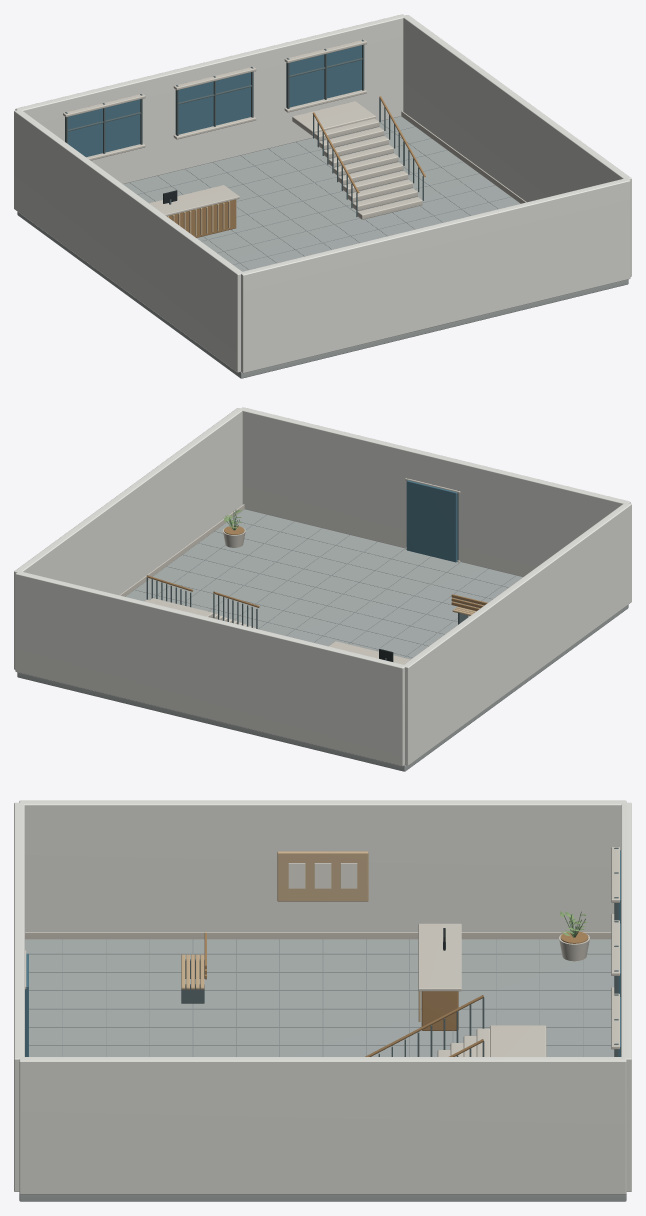
Rendered from reception.glb.
3 views of the same model, one above another, from view 1: azimuth 30°, elevation 25°; view 2: azimuth 150°, elevation 25°; view 3: azimuth 270°, elevation 25° (orthographic). The views are drawn at different scales.
Parts seen in each view (by area): view 1: white, paving, stone, glass, metal, grout, wood, oak; view 2: white, paving, glass, grout, stone, metal, wood; view 3: white, paving, stone, grout, oak, wood, metal, paper, glass.
Part boxes in pixels (x1,y1,x2,y2): white: [14, 14, 631, 373]; paving: [17, 116, 628, 378]; stone: [63, 39, 526, 219]; glass: [68, 45, 361, 157]; metal: [65, 39, 423, 216]; grout: [130, 122, 510, 269]; wood: [168, 96, 425, 237]; oak: [167, 201, 230, 236]; white: [14, 407, 631, 766]; paving: [17, 509, 628, 771]; glass: [406, 480, 457, 562]; grout: [135, 514, 515, 657]; stone: [119, 478, 460, 664]; metal: [146, 478, 468, 660]; wood: [146, 525, 487, 610]; white: [14, 800, 631, 1194]; paving: [19, 939, 626, 1201]; stone: [25, 847, 619, 1056]; grout: [29, 939, 611, 1056]; oak: [181, 851, 420, 1021]; wood: [204, 931, 588, 1056]; metal: [181, 847, 618, 1056]; paper: [288, 863, 357, 888]; glass: [25, 850, 620, 1056].
Bounding box in the file's own units: 14.25 × 3.64 × 14.25.
